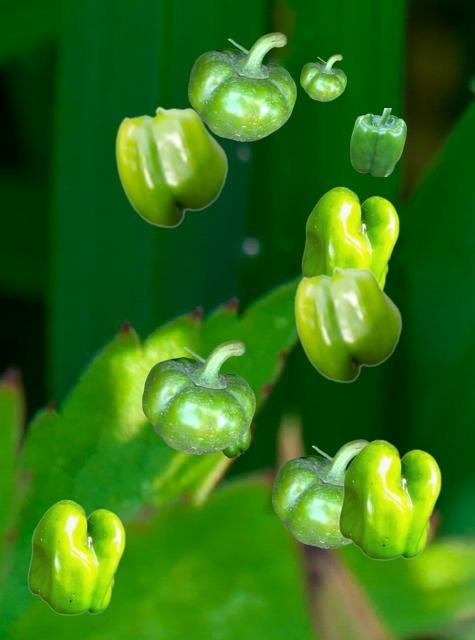bell_pepper: (115, 106, 227, 227), (142, 340, 254, 453), (294, 266, 401, 382), (338, 439, 440, 559), (188, 32, 295, 140), (27, 499, 124, 614), (272, 439, 368, 547), (301, 186, 398, 289), (350, 108, 405, 175), (300, 54, 345, 100), (221, 428, 249, 457)
